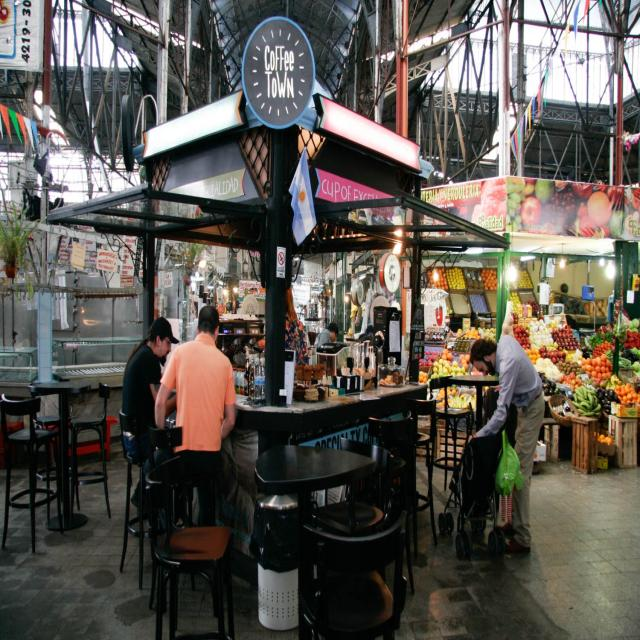body: (154, 304, 236, 528), (467, 334, 546, 560), (120, 314, 180, 530), (354, 322, 382, 381), (314, 322, 339, 348), (224, 298, 237, 316)
